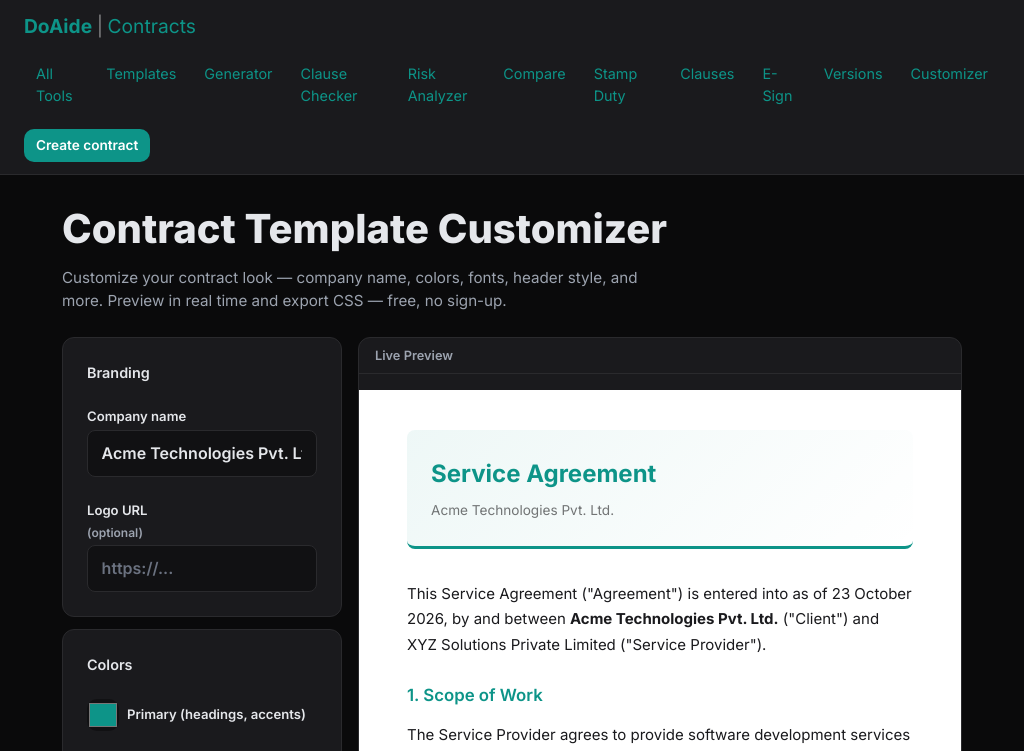
Test: TemplateCustomizerPage › updates company name in preview when changed
Replace the text in the field showing "Acme Technologies Pvt. Ltd." with "Test Corp". click: coordinates (202, 453)
box: [87,430,317,477]
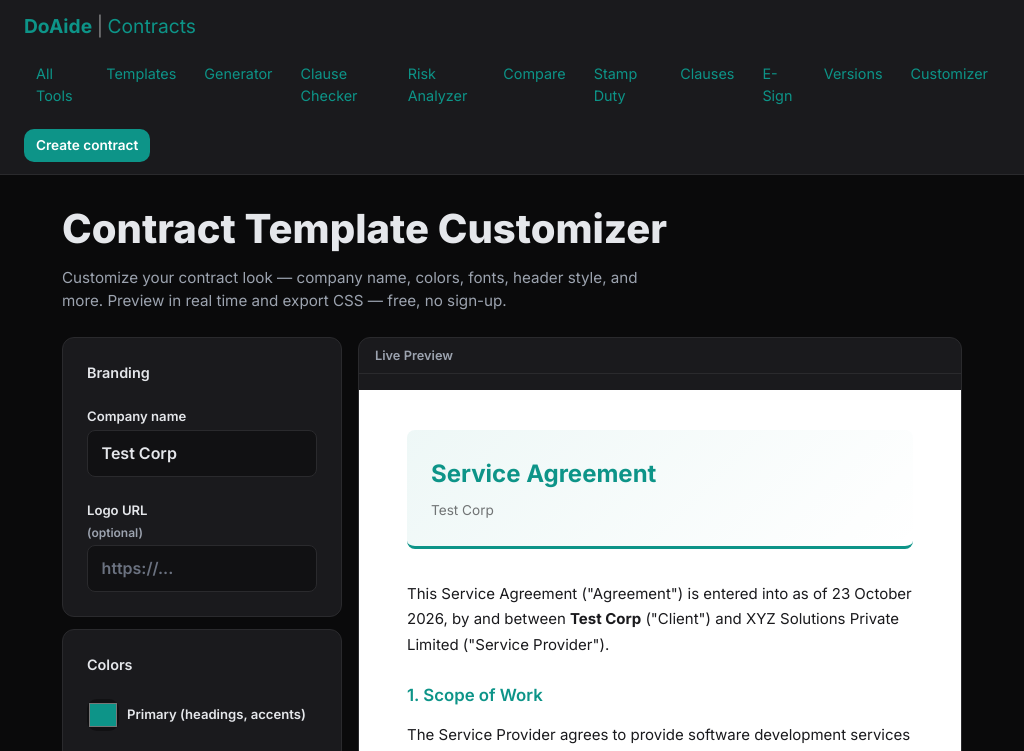
Expected: the 1st text "Test Corp" is shown, [431,502,494,518]
